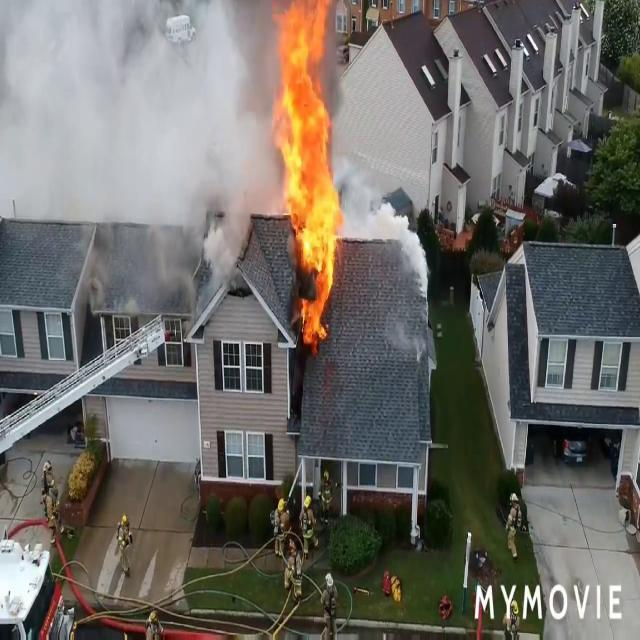Fire: (266, 5, 352, 344)
Smoke: (7, 2, 266, 276), (376, 210, 429, 286)
